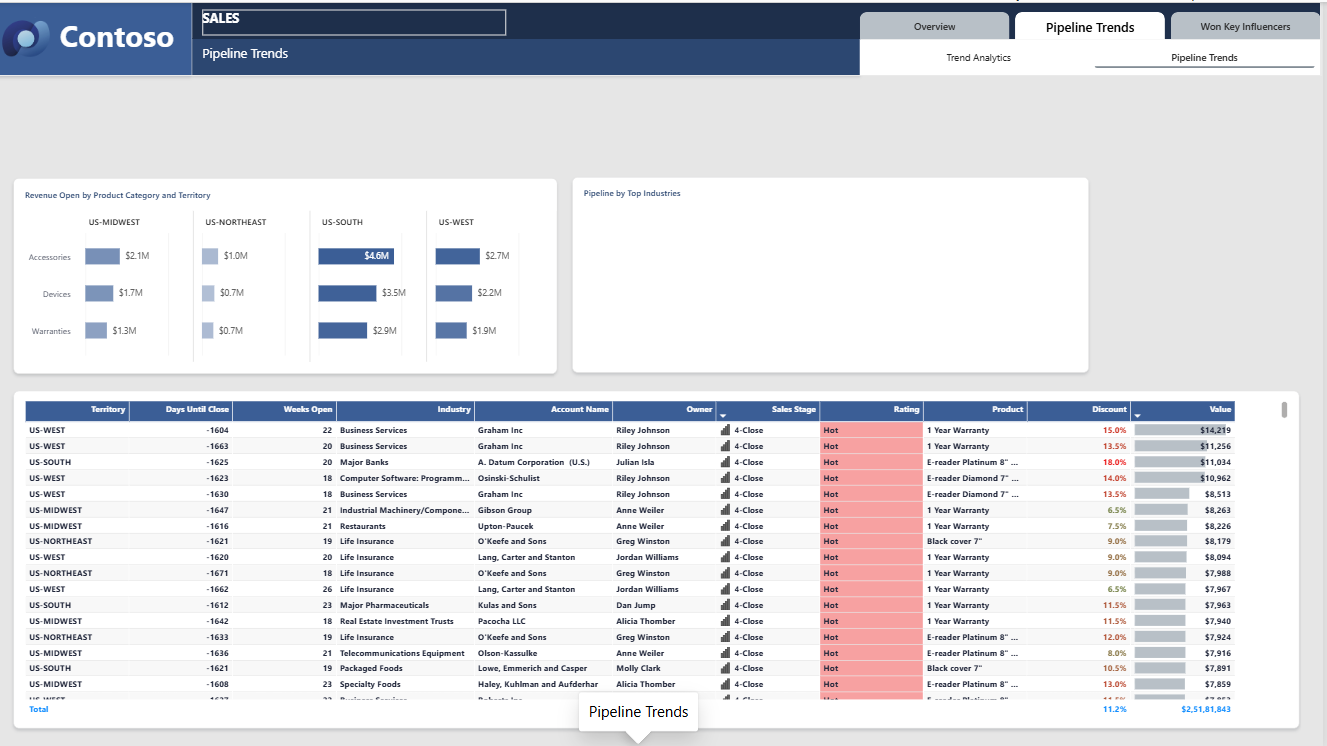

This screenshot's page, from the dashboard's own definition file:
{"tool":"powerbi","page":{"name":"Pipeline Trends","canvas":[1920,1080],"ordinal":4},"visuals":[{"type":"shape","title":"Horizontal Shape","box":[283.4,53.1,967.2,54],"z":0,"group":"g1"},{"type":"group","id":"g1","title":"Header","box":[0,0,1918,107.6],"z":500},{"type":"tableEx","fields":{"Values":["Territories.Territory","Opportunities.Days Remaining In Pipeline","Opportunities.Weeks Open","Industries.Industry","Accounts.Account Name","Owners.Owner","Opportunities.PipelineStep","Opportunities.Rating","Products.Product","Avg(Opportunities.Discount)","Sum(Opportunities.Value)"]},"box":[25.9,562.2,1861.6,488.6],"z":1000},{"type":"shape","title":"Horizontal Shape","box":[283.4,0.3,1633.9,53.8],"z":2000,"group":"g1"},{"type":"barChart","title":"Revenue Open by Product Category and Territory","fields":{"Category":["Products.Product LOB","Products.Product"],"Y":["Opportunities.Revenue Open"],"Rows":["Territories.Territory"]},"box":[25.9,255.1,787,283.2],"z":2000},{"type":"pageNavigator","box":[1250,15,667.5,40],"z":2500,"group":"g1"},{"type":"shape","title":"Horizontal Shape","box":[1249.9,54,668,52.1],"z":2750,"group":"g1"},{"type":"shape","title":"Horizontal Shape","box":[0,0,283.5,107.6],"z":3000,"group":"g1"},{"type":"pageNavigator","box":[1262.5,63.8,646.2,32.5],"z":3250,"group":"g1"},{"type":"textbox","title":"Report Title Category","box":[299,11.5,438.7,37.2],"z":4000,"group":"g1"},{"type":"textbox","title":"Report Title","box":[298.6,61.4,438.7,36.5],"z":4125,"group":"g1"},{"type":"textbox","title":"Company name","box":[93,17.3,190.3,88.6],"z":4250,"group":"g1"},{"type":"image","title":"Company Logo","box":[8.6,17.1,68.6,73.6],"z":4500,"group":"g1"},{"type":"ribbonChart","title":"Pipeline by Top Industries","fields":{"Category":["Opportunity Calendar.YEAR MONTH"],"Y":["Opportunities.Revenue Open"],"Series":["Industries.Industry"]},"box":[834.6,253,748.1,283.2],"z":13000},{"type":"cardVisual","title":"Revenue won","fields":{"Data":["Opportunities.Opportunity Count","Opportunities.Revenue Open","Avg(Opportunities.Days Remaining In Pipeline)","Opportunities.Revenue In Pipeline"]},"box":[25,138,1861,92],"z":15000}]}

Visuals, with their boxes on the page's 1920x1080 design canvas (x1, y1, x2, y2). These are canvas units, not pixel positions in the 1327x746 screenshot, which may show the page scaled, cropped or inside an application window:
"Horizontal Shape" shape: select_region(283, 53, 1251, 107)
"Header" group: select_region(0, 0, 1918, 108)
tableEx - Territories.Territory x Opportunities.Days Remaining In Pipeline: select_region(26, 562, 1888, 1051)
"Horizontal Shape" shape: select_region(283, 0, 1917, 54)
"Revenue Open by Product Category and Territory" barChart: select_region(26, 255, 813, 538)
pageNavigator: select_region(1250, 15, 1918, 55)
"Horizontal Shape" shape: select_region(1250, 54, 1918, 106)
"Horizontal Shape" shape: select_region(0, 0, 284, 108)
pageNavigator: select_region(1262, 64, 1909, 96)
"Report Title Category" textbox: select_region(299, 12, 738, 49)
"Report Title" textbox: select_region(299, 61, 737, 98)
"Company name" textbox: select_region(93, 17, 283, 106)
"Company Logo" image: select_region(9, 17, 77, 91)
"Pipeline by Top Industries" ribbonChart: select_region(835, 253, 1583, 536)
"Revenue won" cardVisual: select_region(25, 138, 1886, 230)
